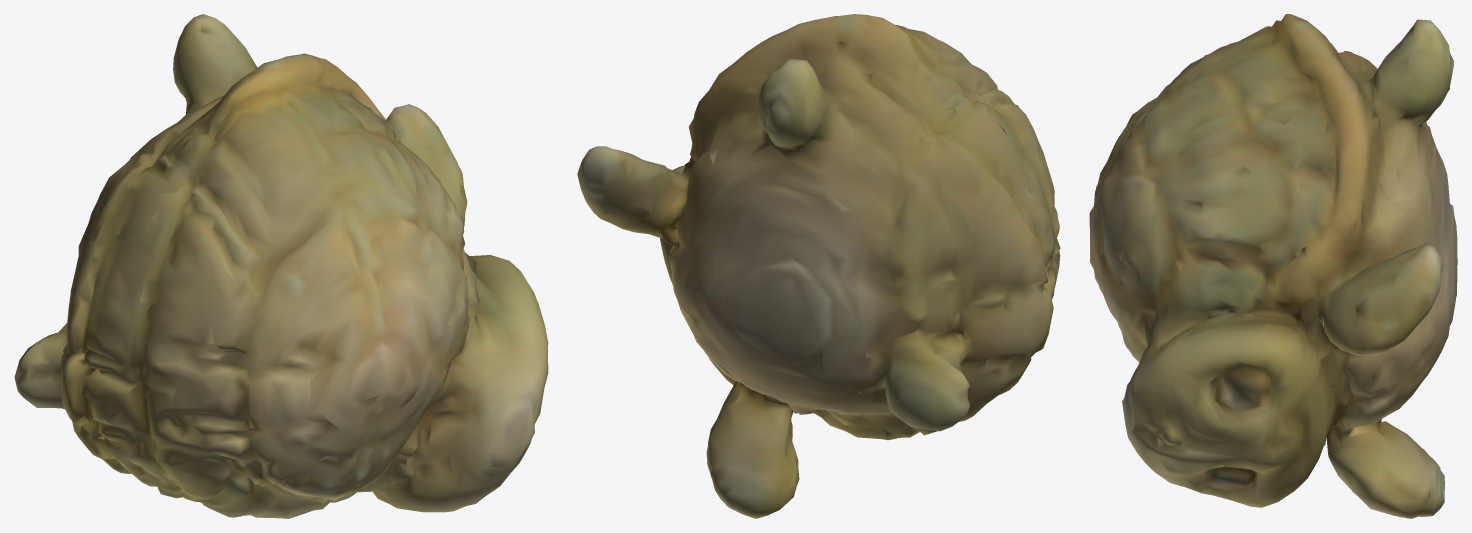
Rendered from pet_turtle.glb.
3 renders of one model, left to right at view 1: azimuth 30°, elevation 25°; view 2: azimuth 150°, elevation 25°; view 3: azimuth 270°, elevation 25°, orthographic. The views are drawn at different scales.
Visible parts, largest first — view 1: geometry_0; view 2: geometry_0; view 3: geometry_0.
Boxes of the visible parts, x1,y1,x2,y2 form: geometry_0: (14,14,548,518); geometry_0: (577,14,1060,518); geometry_0: (1089,14,1457,518).
Size of the model in its own units: 0.7261 by 0.7721 by 0.5504.
